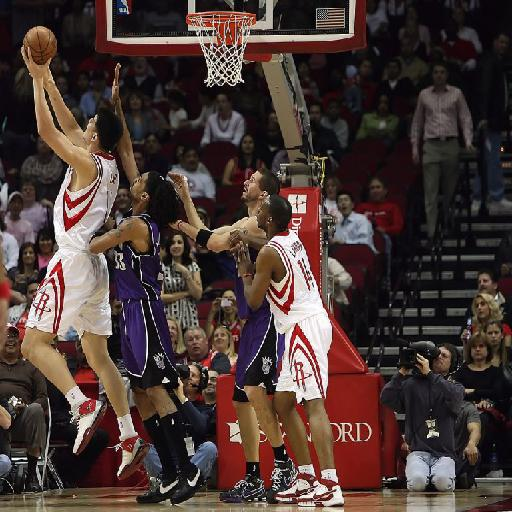ball: (20, 26, 57, 64)
